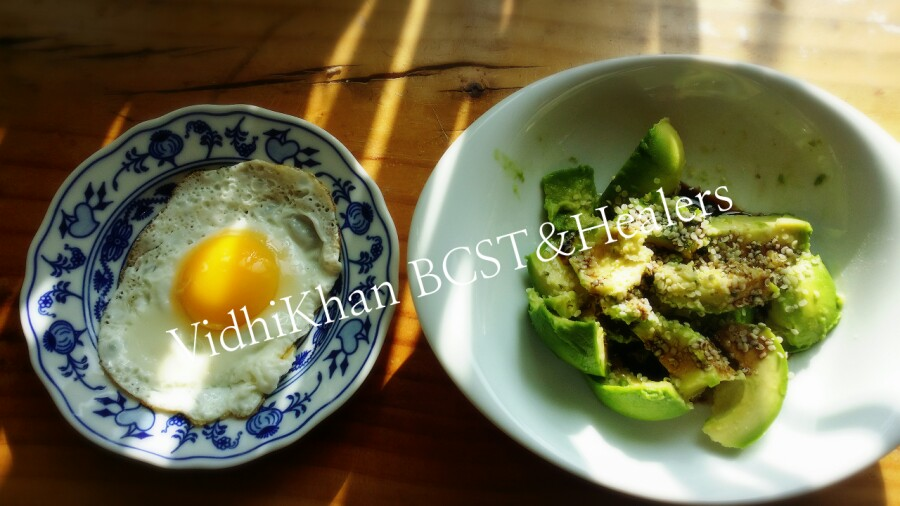fried egg: (100, 162, 307, 414)
